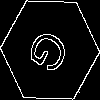G: (25, 25, 78, 83)
